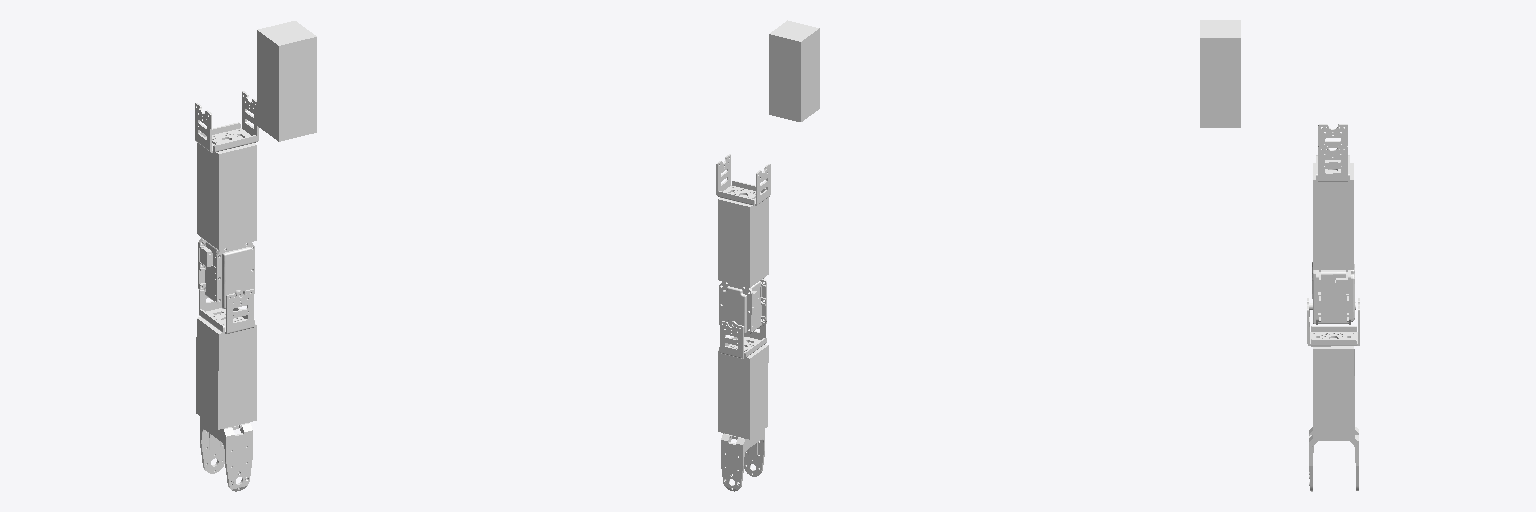
robot.urdf — manipulator:
<?xml version="1.0" encoding="utf-8"?>
<!-- =================================================================================== -->
<!-- |    This document was autogenerated by xacro from manipulator4_meshed.xacro      | -->
<!-- |    EDITING THIS FILE BY HAND IS NOT RECOMMENDED                                 | -->
<!-- =================================================================================== -->
<robot name="manipulator">
  <!--0.5624 height to start-->
  <material name="white">
    <color rgba="1 1 1 1"/>
  </material>
  <!-- MACROS -->
  <!-- LINKS -->
  <!-- the trans parameter present here is to toggle distance of current object with respect to previous adjacent object i.e. its parent-->
  <link name="base_link">
    <inertial>
      <origin rpy="0 0 0" xyz="0 0 0.5624"/>
      <mass value="0.00048"/>
      <inertia ixx="0.000050799110" ixy="0.0" ixz="0.0" iyy="0.00002857215" iyz="0.00000051457" izz="0.000043394"/>
    </inertial>
    <visual>
      <origin rpy="0 0 0" xyz="0 0 0.5624"/>
      <geometry>
        <box size="0.04 0.04 0.096"/>
      </geometry>
      <material name="white"/>
    </visual>
    <collision>
      <origin rpy="0 0 0" xyz="0 0 0.5624"/>
      <geometry>
        <box size="0.04 0.04 0.096"/>
      </geometry>
    </collision>
  </link>
  <link name="shoulder_yaw_motor">
    <inertial>
      <origin rpy="0 0 0 " xyz="0 0 0.0205"/>
      <mass value="0.140"/>
      <inertia ixx="0.000050799110" ixy="0.0" ixz="0.0" iyy="0.00002857215" iyz="0.00000051457" izz="0.000043394"/>
    </inertial>
    <visual>
      <origin rpy="0 0 0 " xyz="0 0 0.0205"/>
      <geometry>
        <mesh filename="package://mobile_manipulator/meshes/dynamixel_x64series.stl" scale="0.001 0.001 0.001"/>
      </geometry>
      <material name="white"/>
    </visual>
    <collision>
      <origin rpy="0 0 0" xyz="0 0 0.0205"/>
      <geometry>
        <mesh filename="package://mobile_manipulator/meshes/dynamixel_x64series.stl" scale="0.001 0.001 0.001"/>
      </geometry>
    </collision>
  </link>
  <link name="shoulder_roll_motor">
    <inertial>
      <origin rpy="0 0 0 " xyz="0 0.0481 0.0004"/>
      <mass value="0.140"/>
      <inertia ixx="0.000050799110" ixy="0.0" ixz="0.0" iyy="0.00002857215" iyz="0.00000051457" izz="0.000043394"/>
    </inertial>
    <visual>
      <origin rpy="0 0 0 " xyz="0 0.0481 0.0004"/>
      <geometry>
        <mesh filename="package://mobile_manipulator/meshes/dynamixel_x64series.stl" scale="0.001 0.001 0.001"/>
      </geometry>
      <material name="white"/>
    </visual>
    <collision>
      <origin rpy="0 0 0" xyz="0 0.0481 0.0004"/>
      <geometry>
        <mesh filename="package://mobile_manipulator/meshes/dynamixel_x64series.stl" scale="0.001 0.001 0.001"/>
      </geometry>
    </collision>
  </link>
  <link name="shoulder_pitch_motor">
    <inertial>
      <origin rpy="0 0 0" xyz="0 0.0481 0"/>
      <mass value="0.140"/>
      <inertia ixx="0.000050799110" ixy="0.0" ixz="0.0" iyy="0.00002857215" iyz="0.00000051457" izz="0.000043394"/>
    </inertial>
    <visual>
      <origin rpy="0.0 0.0 0" xyz="0 0.0481 0"/>
      <geometry>
        <mesh filename="package://mobile_manipulator/meshes/dynamixel_x64series.stl" scale="0.001 0.001 0.001"/>
      </geometry>
      <material name="white"/>
    </visual>
    <collision>
      <origin rpy="0 0 0" xyz="0 0.0481 0"/>
      <geometry>
        <mesh filename="package://mobile_manipulator/meshes/dynamixel_x64series.stl" scale="0.001 0.001 0.001"/>
      </geometry>
    </collision>
  </link>
  <link name="link_1">
    <inertial>
      <origin rpy="0 0 0" xyz="0 0 0"/>
      <mass value="0.265"/>
      <inertia ixx="0.000050799110" ixy="0.0" ixz="0.0" iyy="0.00002857215" iyz="0.00000051457" izz="0.000043394"/>
    </inertial>
    <visual>
      <origin rpy="0.0 0.0 0" xyz="0 0 0"/>
      <geometry>
        <mesh filename="package://arm_imitation/meshes/link1.stl" scale="1 1 1"/>
      </geometry>
      <material name="white"/>
    </visual>
    <collision>
      <origin rpy="0 0 0" xyz="0 0 0"/>
      <geometry>
        <mesh filename="package://arm_imitation/meshes/link1.stl" scale="1 1 1"/>
      </geometry>
    </collision>
  </link>
  <link name="link_2">
    <inertial>
      <origin rpy="0 0 0" xyz="0 0 0"/>
      <mass value="0.265"/>
      <inertia ixx="0.000050799110" ixy="0.0" ixz="0.0" iyy="0.00002857215" iyz="0.00000051457" izz="0.000043394"/>
    </inertial>
    <visual>
      <origin rpy="0.0 0.0 0" xyz="0 0 0"/>
      <geometry>
        <mesh filename="package://arm_imitation/meshes/link2.stl" scale="1 1 1"/>
      </geometry>
      <material name="white"/>
    </visual>
    <collision>
      <origin rpy="0 0 0" xyz="0 0 0"/>
      <geometry>
        <mesh filename="package://arm_imitation/meshes/link2.stl" scale="1 1 1"/>
      </geometry>
    </collision>
  </link>
  <joint name="base_joint" type="fixed">
    <origin rpy="1.57 0 3.14" xyz="0 0.02 0.5624"/>
    <parent link="base_link"/>
    <child link="shoulder_yaw_motor"/>
  </joint>
  <joint name="shoulder_pitch" type="revolute">
    <origin rpy="1.57 0 0" xyz="0 0 0.041"/>
    <parent link="shoulder_yaw_motor"/>
    <child link="shoulder_roll_motor"/>
    <axis xyz="0 1 0"/>
    <limit effort="30" lower="-3.14" upper="3.14" velocity="1.0"/>
  </joint>
  <joint name="shoulder_roll" type="revolute">
    <origin rpy="1.57 0 1.57" xyz="0 0.0481 0.0205"/>
    <parent link="shoulder_roll_motor"/>
    <child link="shoulder_pitch_motor"/>
    <axis xyz="0 1 0"/>
    <limit effort="30" lower="-3.14" upper="3.14" velocity="1.0"/>
  </joint>
  <joint name="shoulder_yaw" type="revolute">
    <origin rpy="-1.57 1.57 1.57" xyz="0 0.0481 0"/>
    <parent link="shoulder_pitch_motor"/>
    <child link="link_1"/>
    <axis xyz="-1 0 0"/>
    <limit effort="30" lower="-1.57" upper="1.57" velocity="1.0"/>
  </joint>
  <joint name="elbow_pitch" type="revolute">
    <origin rpy="0 0 0" xyz="0 -0.1801 0"/>
    <parent link="link_1"/>
    <child link="link_2"/>
    <axis xyz="0 0 1"/>
    <limit effort="30" lower="-1.57" upper="1.57" velocity="1.0"/>
  </joint>
  <!-- axis="1 0 0" l="-1.57" u="1.57" v="1.0" -->
  <!-- <xacro:FxdJoint id="biceps_start" trans="0 0 ${MXBracketLength}" rpy="0 0 3.14" parent="shoulder_bracket" child="biscep"/>
  <xacro:FxdJoint id="biceps_end" trans="0 0 ${LinkLength}" rpy="1.57 0 1.57" parent="biscep" child="elbow_motor"/>
  <xacro:RevJoint id="elbow_pitch" trans="0 ${MXLengthAxisLong} 0" rpy="0 1.57 1.57" parent="elbow_motor" child="elbow_bracket" axis="1 0 0" l="-1.57" u="1.57" v="1.0"/>
  <xacro:FxdJoint id="forearm_start" trans="0 0 ${MXBracketLength}" rpy="0 0 3.14" parent="elbow_bracket" child="forearm"/>
  <xacro:FxdJoint id="forearm_end" trans="0 0 ${LinkLength}" rpy="1.57 0 1.57" parent="forearm" child="wrist_bracket"/> -->
</robot>

--- What the picture shows (computed from the rendered views, not written in the file) ---
Views: 3 orthographic renders of the robot side by side, from view 1: azimuth 30°, elevation 25°; view 2: azimuth 150°, elevation 25°; view 3: azimuth 270°, elevation 25°.
Robot: manipulator — 6 links, 5 joints (4 revolute, 1 fixed); root link base_link; default pose: all joints at 0.
Links seen in each view (by area): view 1: link_1, link_2, base_link; view 2: link_1, link_2, base_link; view 3: link_1, link_2, base_link.
Boxes of the visible links, x1,y1,x2,y2 form: link_1: (195,91,258,308); link_2: (196,289,256,491); base_link: (257,21,316,141); link_1: (716,154,770,336); link_2: (718,319,768,491); base_link: (769,20,819,121); link_1: (1309,124,1355,324); link_2: (1307,298,1359,491); base_link: (1200,20,1240,127).
Bounding box of the posed robot: 0.051 × 0.1554 × 0.4936 m (x, y, z).
Meshes: 3 distinct files referenced, 2 mesh visuals loaded (2 binary STL); not drawn: 3 (reference not matched to a file when rendering).